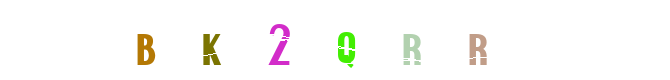2: (296, 0, 376, 80)
B: (135, 0, 215, 80)
K: (240, 0, 320, 80)
Q: (306, 0, 386, 80)
R: (344, 0, 424, 80), (391, 0, 471, 80)
